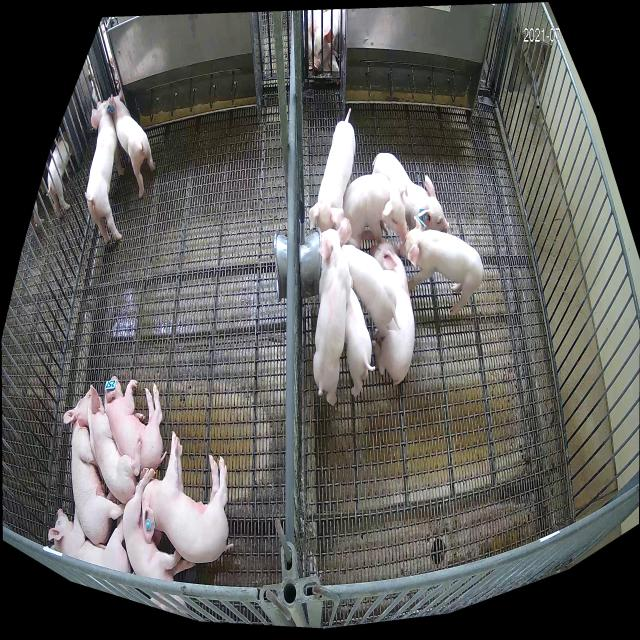pig: (142, 431, 234, 564), (123, 466, 196, 617), (63, 387, 125, 547), (400, 214, 484, 315), (77, 384, 140, 504), (313, 218, 352, 406), (372, 240, 415, 385), (372, 153, 448, 233), (85, 97, 124, 244), (104, 377, 164, 472), (310, 110, 356, 233), (48, 508, 131, 574), (342, 244, 397, 342), (110, 89, 156, 199), (343, 173, 409, 248), (344, 289, 375, 396)
